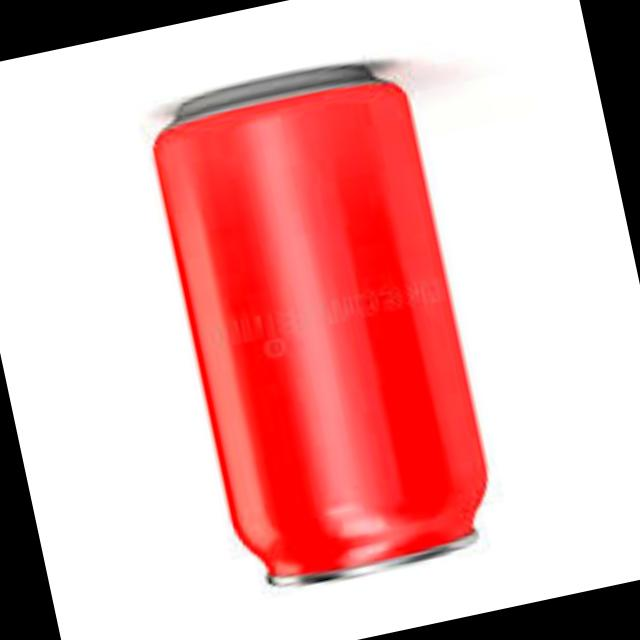metal: (159, 71, 491, 588)
